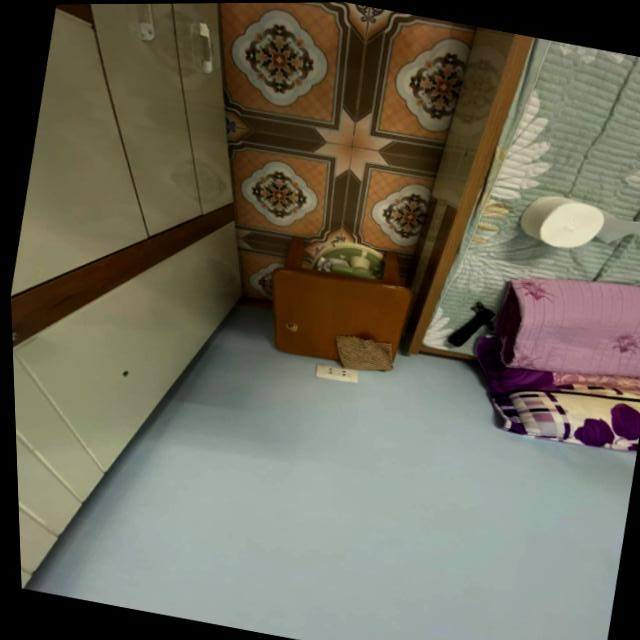outlet: (315, 362, 362, 385)
